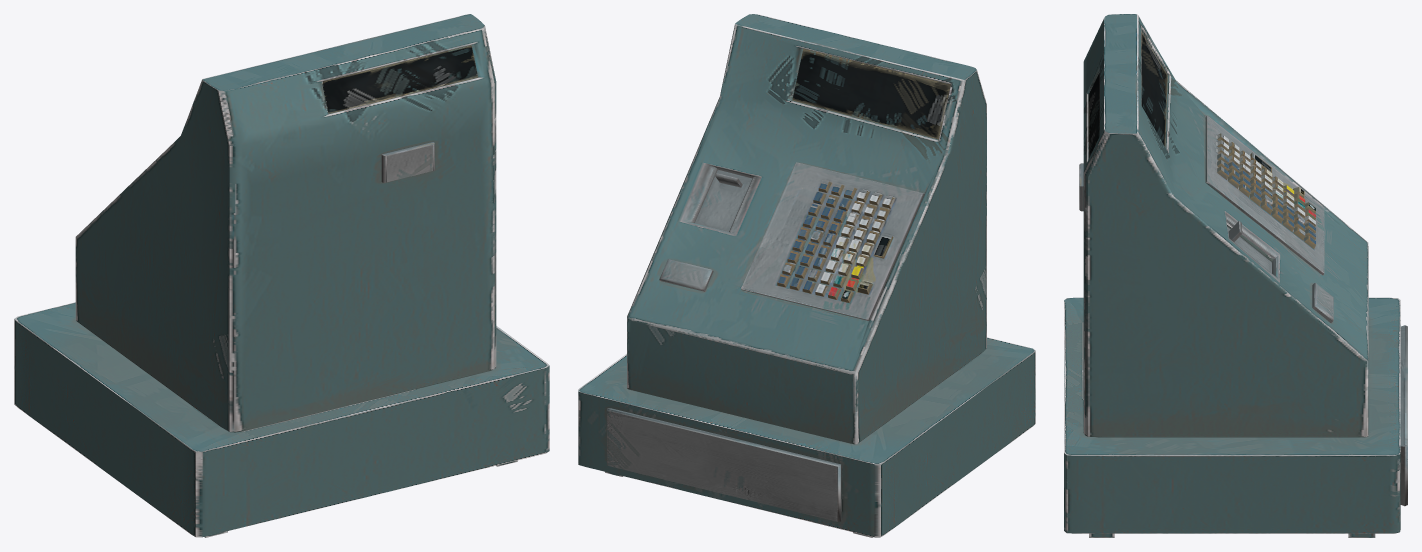
File: kasa.glb
3 renders of one model, left to right at view 1: azimuth 30°, elevation 25°; view 2: azimuth 150°, elevation 25°; view 3: azimuth 270°, elevation 25°, orthographic. The views are drawn at different scales.
Parts seen in each view (by area): view 1: kasa; view 2: kasa; view 3: kasa.
Part boxes in pixels (x1,y1,x2,y2): kasa: (14,14,549,537); kasa: (578,14,1035,537); kasa: (1064,14,1407,537).
Size of the model in its own units: 0.4555 by 0.5315 by 0.419.
Materials: 1 (1 with a texture image).
